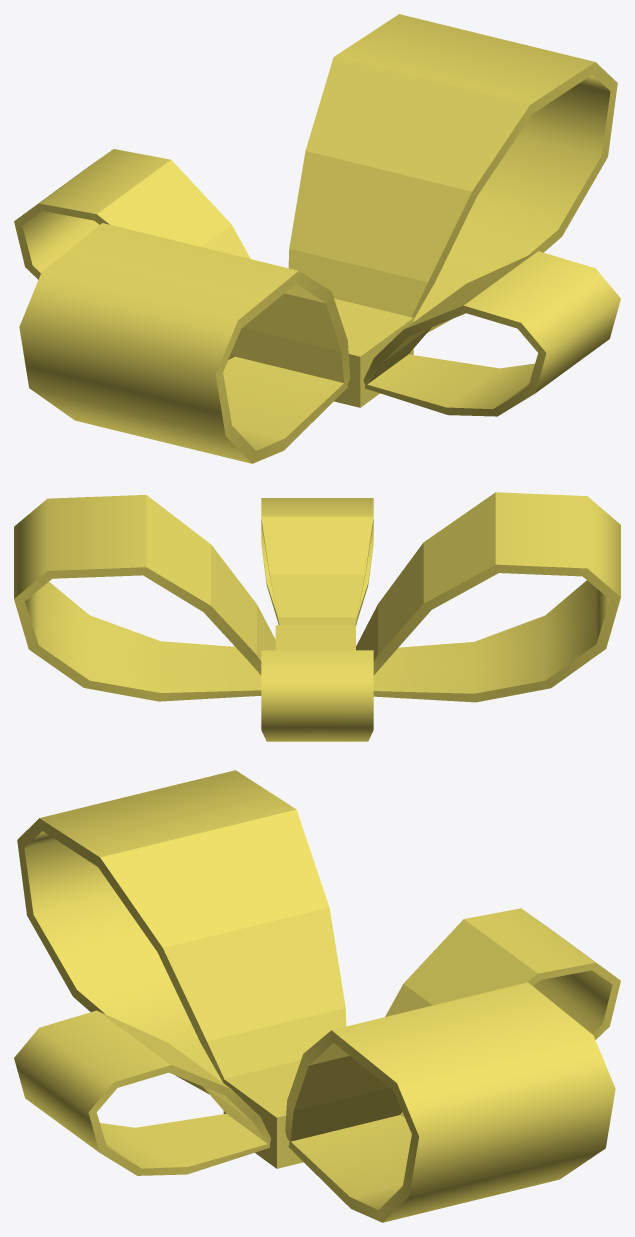
The model's file is M_Bow_04.FBX.
3 views of the same model, one above another, from view 1: azimuth 30°, elevation 25°; view 2: azimuth 150°, elevation 25°; view 3: azimuth 270°, elevation 25° (orthographic). The views are drawn at different scales.
Visible parts, largest first — view 1: Box014; view 2: Box014; view 3: Box014.
Boxes of the visible parts, bbox=[...] form: Box014: bbox=[14, 14, 620, 463]; Box014: bbox=[14, 492, 620, 741]; Box014: bbox=[14, 770, 620, 1222].
Size of the model in its own units: 37.79 by 10.94 by 28.33.
